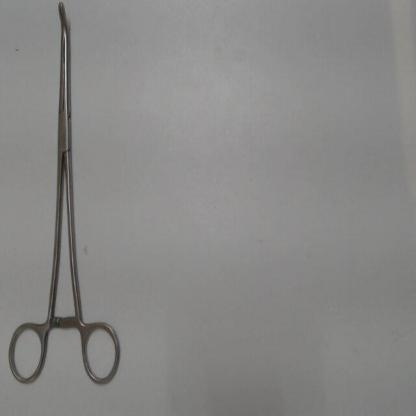Lahey Forceps: (0, 2, 131, 393)
